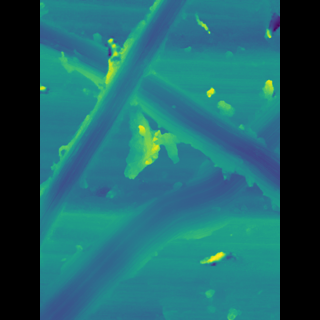Loch: (70, 93, 251, 320), (69, 16, 249, 212), (67, 0, 182, 250)
